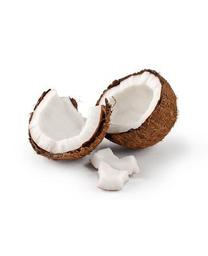coconut: (94, 67, 180, 151), (27, 86, 111, 163)
